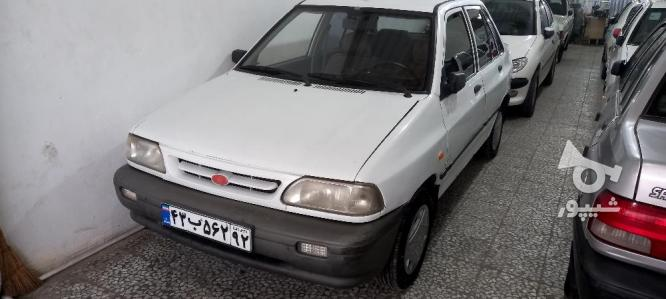car: (160, 202, 255, 254)
